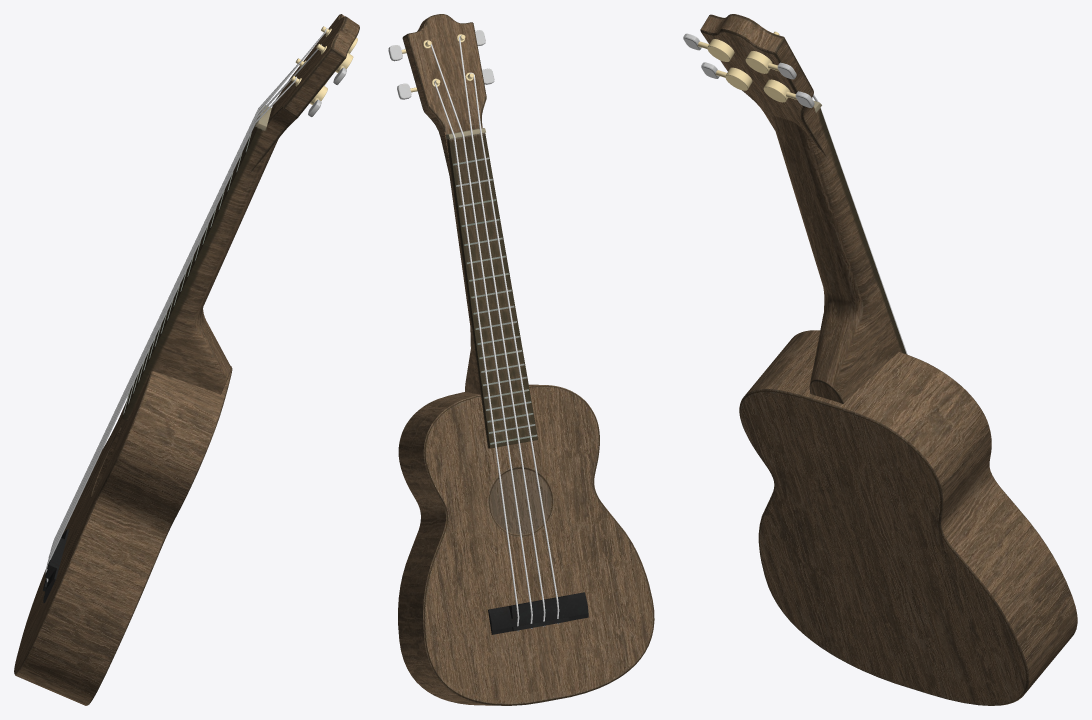
The model's file is Ukulele.glb.
The picture shows the model from 3 angles, left to right: view 1: azimuth 30°, elevation 25°; view 2: azimuth 150°, elevation 25°; view 3: azimuth 270°, elevation 25°; orthographic projection. The views are drawn at different scales.
Visible parts, largest first — view 1: unnamed (×7); view 2: unnamed (×8); view 3: unnamed (×6).
Boxes of the visible parts, left/top/right/bottom form: unnamed (×7): left=14, top=14, right=359, bottom=705; unnamed (×8): left=398, top=14, right=654, bottom=705; unnamed (×6): left=683, top=14, right=1077, bottom=705.
Size of the model in its own units: 75.86 by 155 by 71.36.
6 materials, 5 textured.
